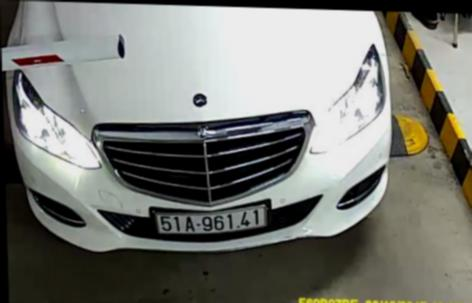License_Plate: (151, 205, 274, 241)
